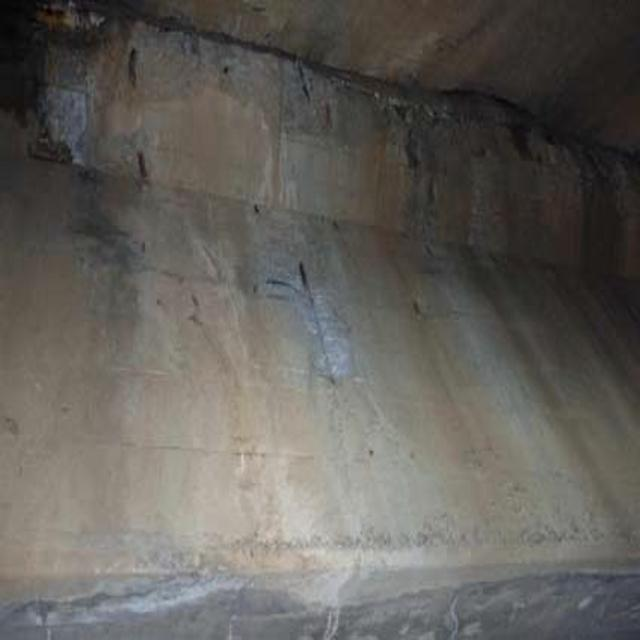spalling: (104, 26, 357, 377), (391, 79, 606, 284)
